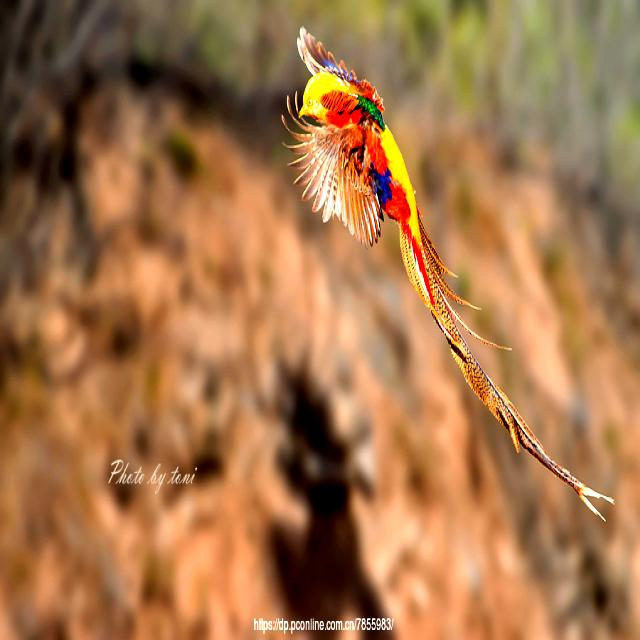Chrysolophus pictus feather: (400, 223, 614, 514)
